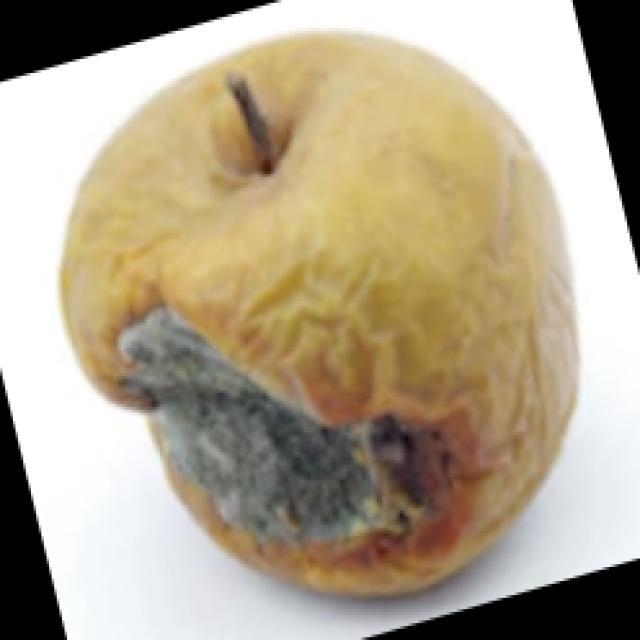Rotten: (74, 34, 584, 598)
